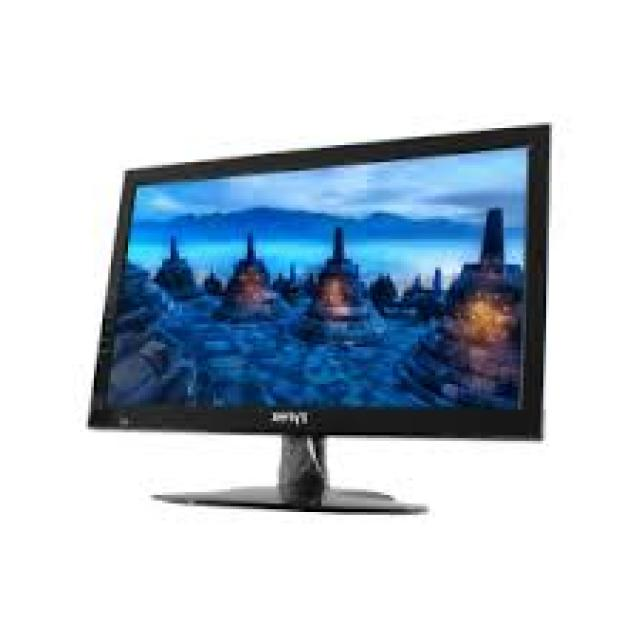monitor: (87, 113, 558, 517)
